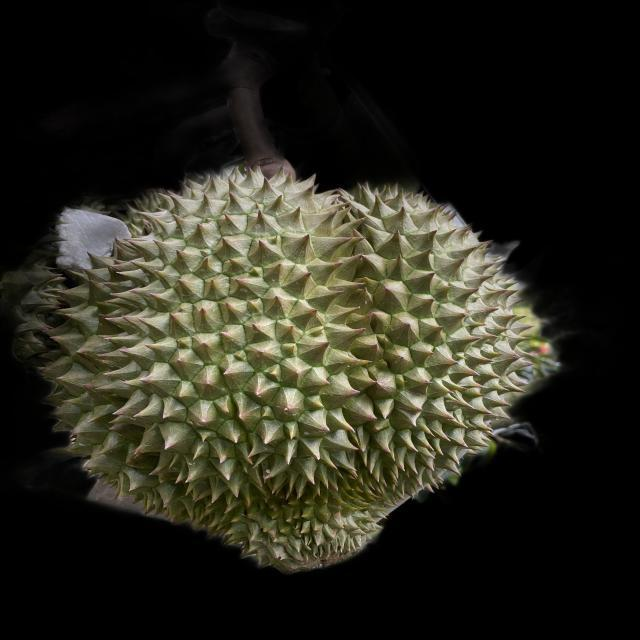immature: (20, 172, 536, 570)
